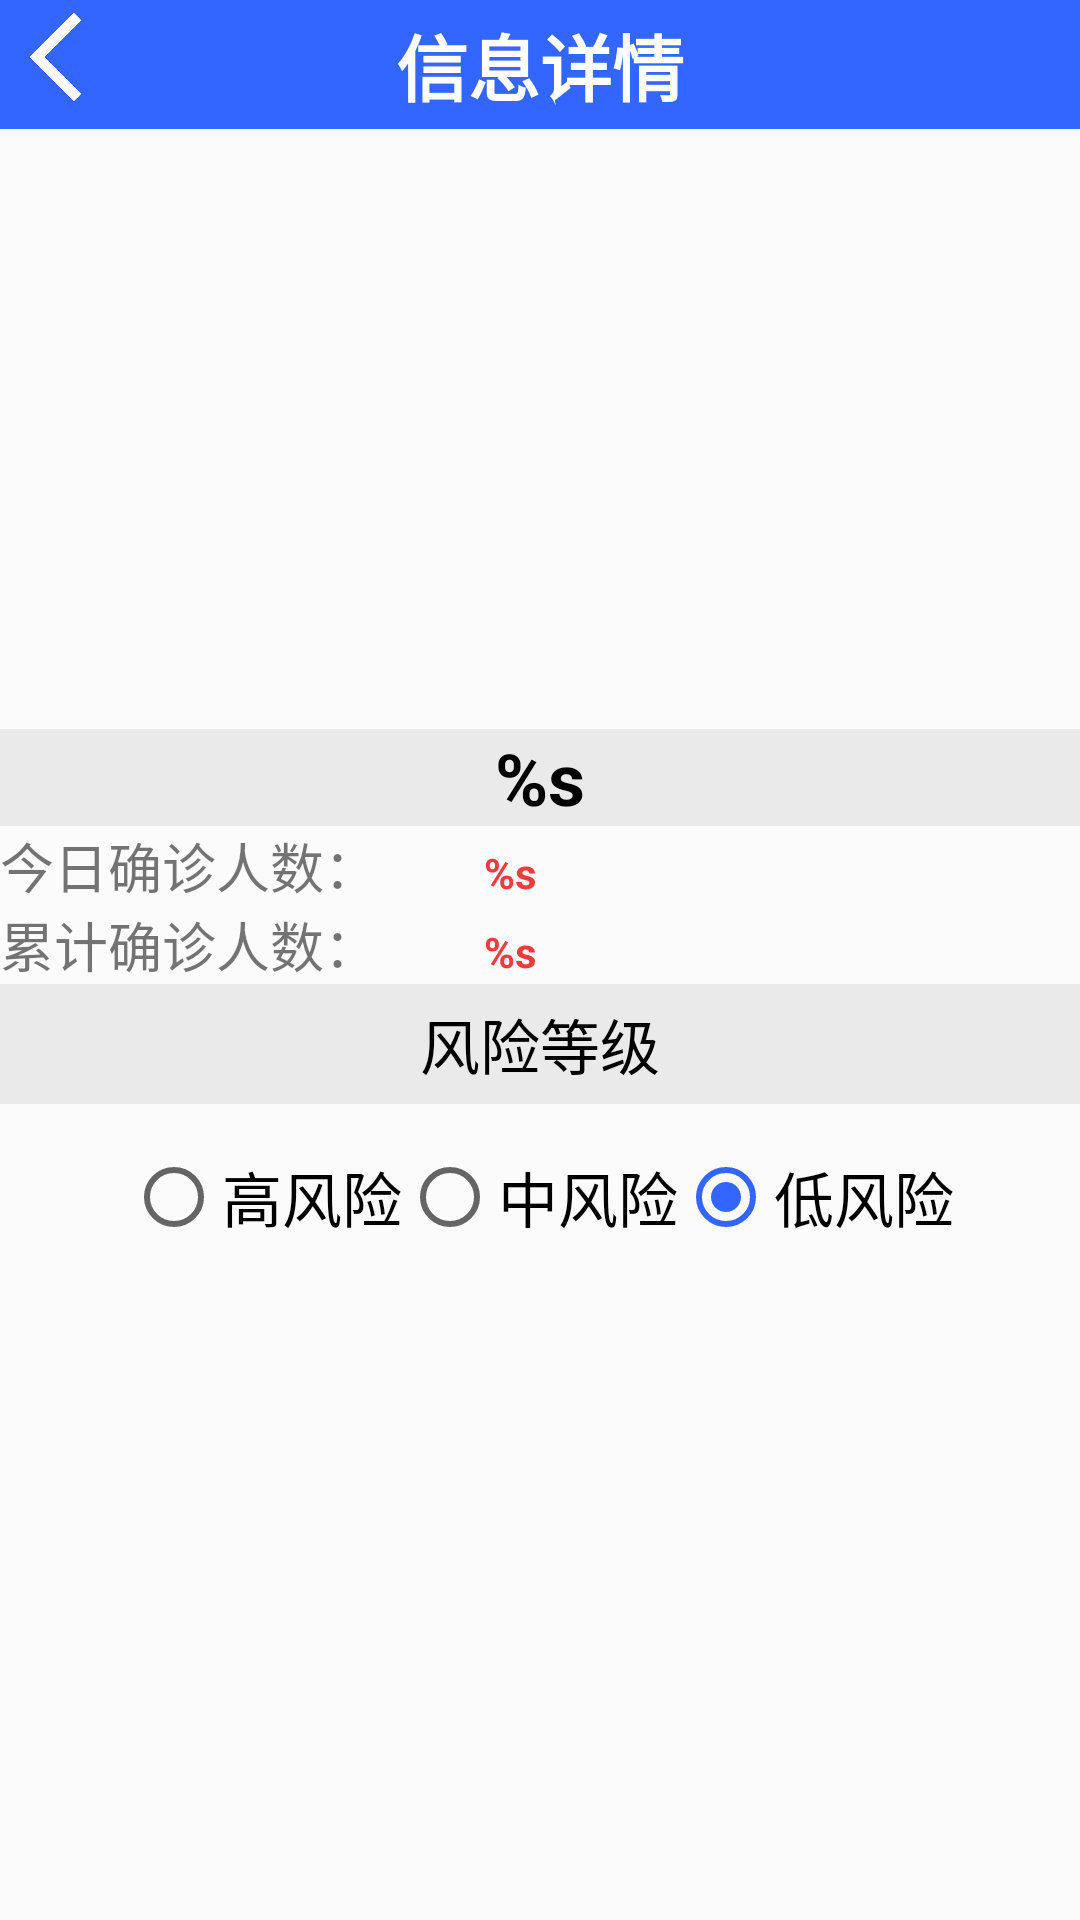

Icon bounding boxes for this 1080 x 1920 phone screenshot, format (x1, y1, x2, y2):
back: (30, 13, 82, 101)
